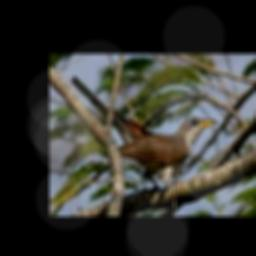Cuckoo: (71, 75, 218, 190)
